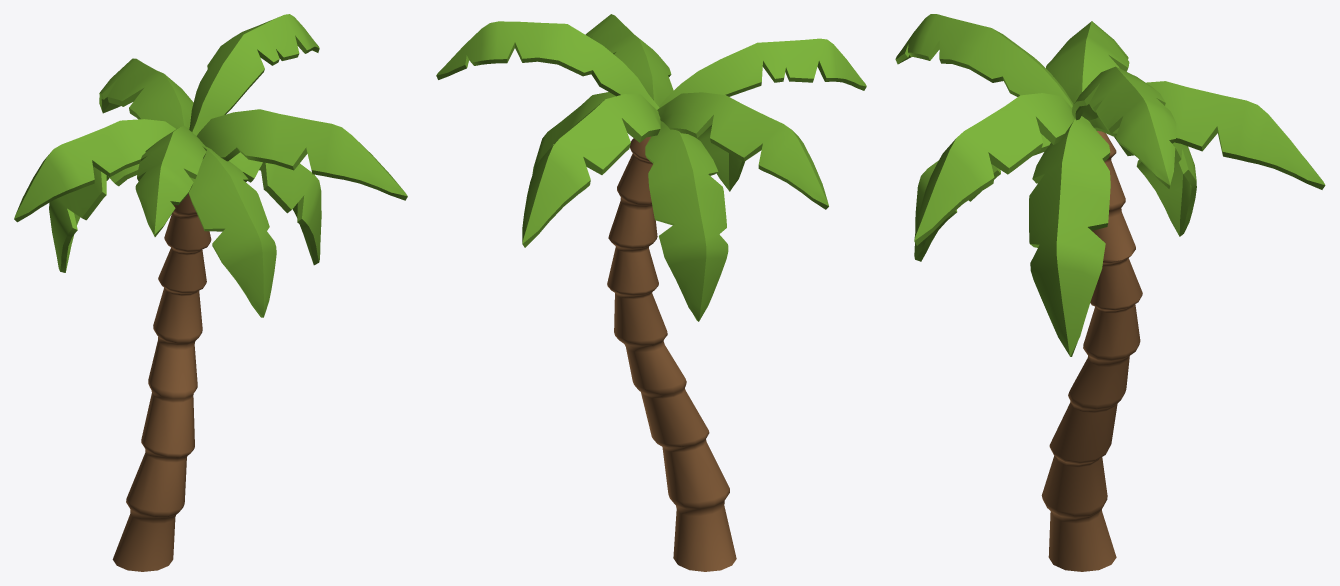
File: Environment_PalmTree_1.glb
3 views of the same model, side by side, from view 1: azimuth 30°, elevation 25°; view 2: azimuth 150°, elevation 25°; view 3: azimuth 270°, elevation 25° (orthographic). The views are drawn at different scales.
Parts seen in each view (by area): view 1: Environment_PalmTree_1; view 2: Environment_PalmTree_1; view 3: Environment_PalmTree_1.
Part boxes in pixels (<box>): Environment_PalmTree_1: <box>14,14,407,571</box>; Environment_PalmTree_1: <box>436,14,866,571</box>; Environment_PalmTree_1: <box>895,14,1325,571</box>.
Bounding box in the file's own units: 2.61 × 3.59 × 2.52.
1 material, 1 textured.
